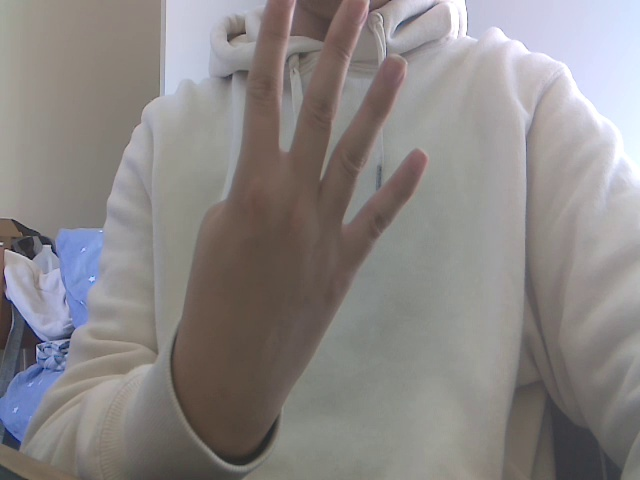hand_gesture_4: (165, 1, 450, 453)
